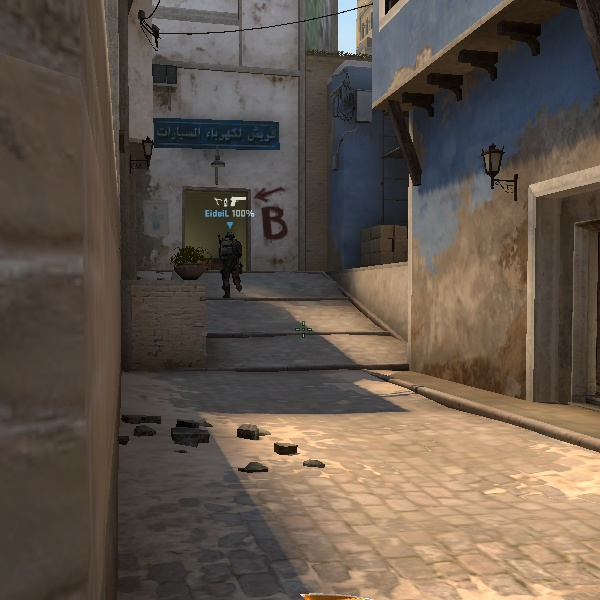ct_body: (211, 228, 251, 299)
ct_head: (223, 230, 239, 245)
